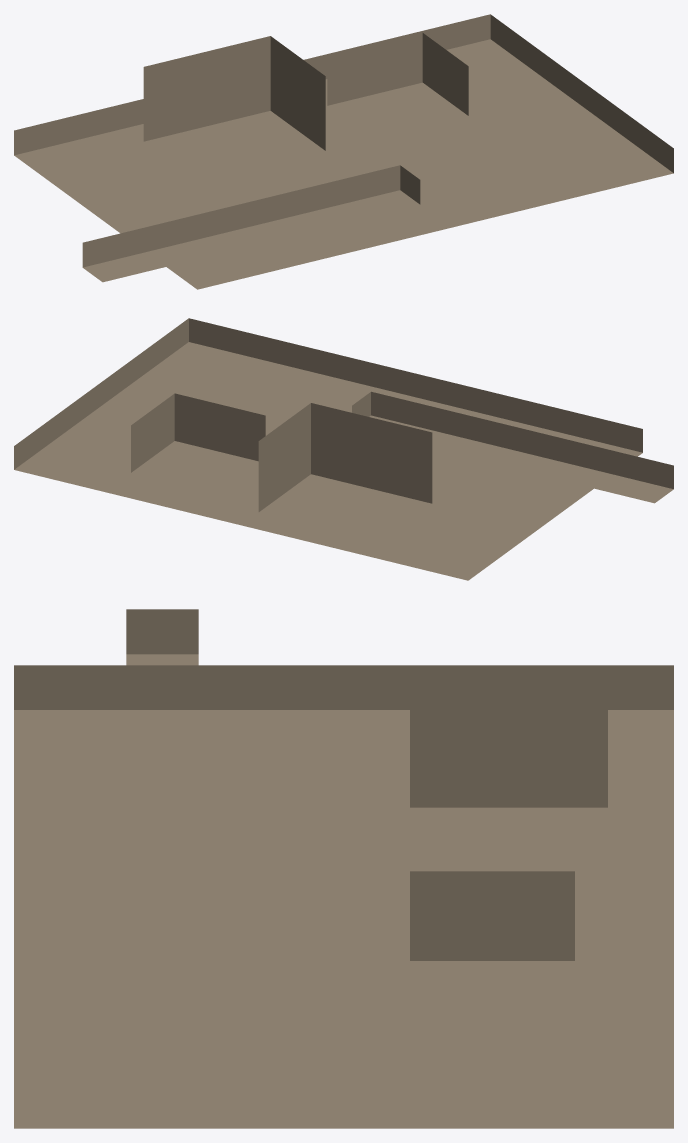
Rendered from SM_GalleonCove_Alpha.gltf.
The picture shows the model from 3 angles, top to bottom: view 1: azimuth 30°, elevation 25°; view 2: azimuth 150°, elevation 25°; view 3: azimuth 270°, elevation 25°; orthographic projection. The views are drawn at different scales.
Visible parts, largest first — view 1: SM_GalleonCove_Alpha; view 2: SM_GalleonCove_Alpha; view 3: SM_GalleonCove_Alpha.
Boxes of the visible parts, x1=… form: SM_GalleonCove_Alpha: x1=14, y1=14, x2=673, y2=289; SM_GalleonCove_Alpha: x1=14, y1=318, x2=673, y2=580; SM_GalleonCove_Alpha: x1=14, y1=609, x2=673, y2=1128.
Bounding box in the file's own units: 6.8 × 0.9 × 4.
